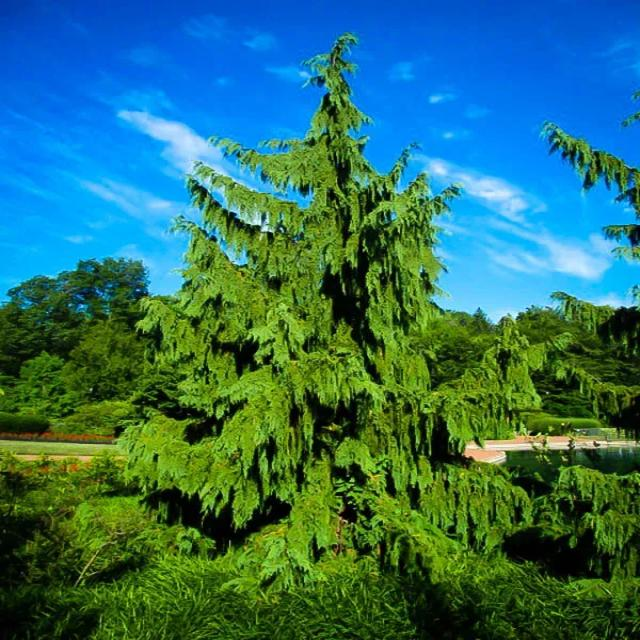Cupressus nootkatensis: (119, 39, 509, 582)
